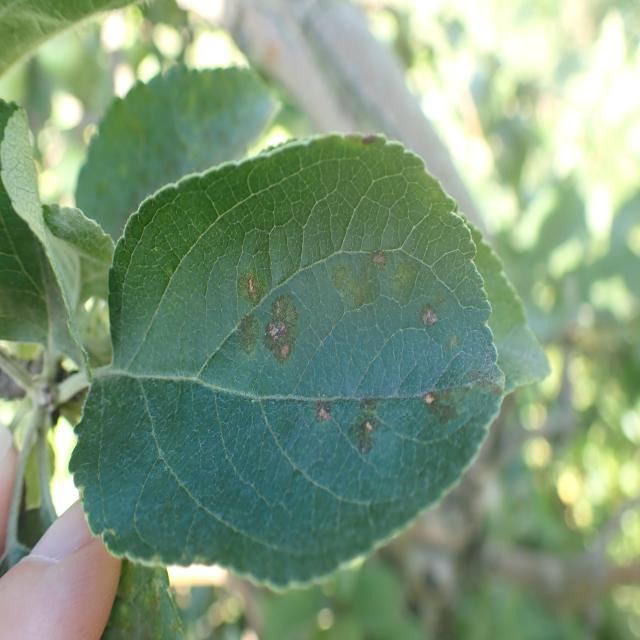scab: (165, 138, 532, 532)
